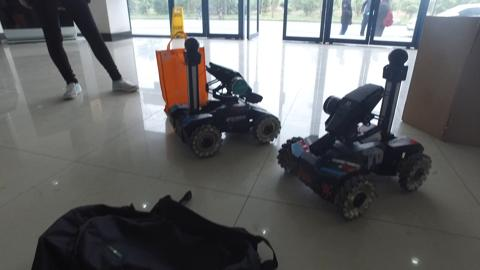chariot: (281, 48, 431, 218), (163, 36, 281, 158)
